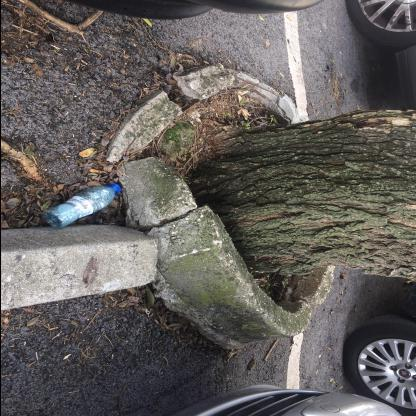plastik: (42, 184, 122, 230)
